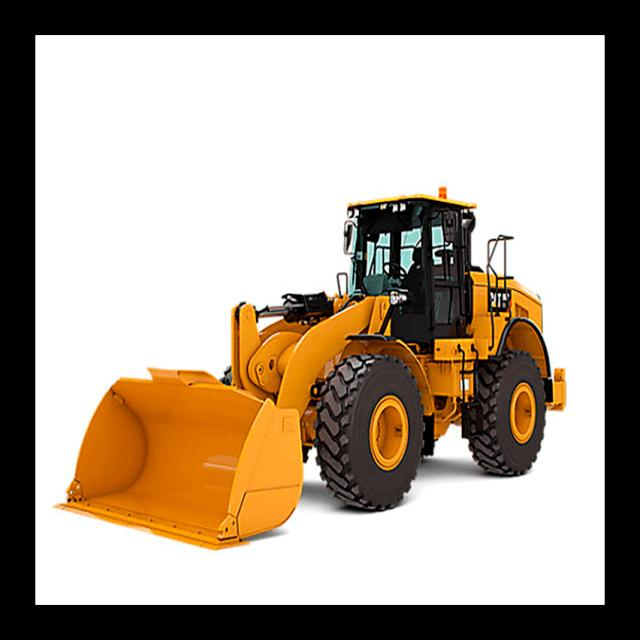buldozerpayloadergrader: (52, 185, 573, 554)
